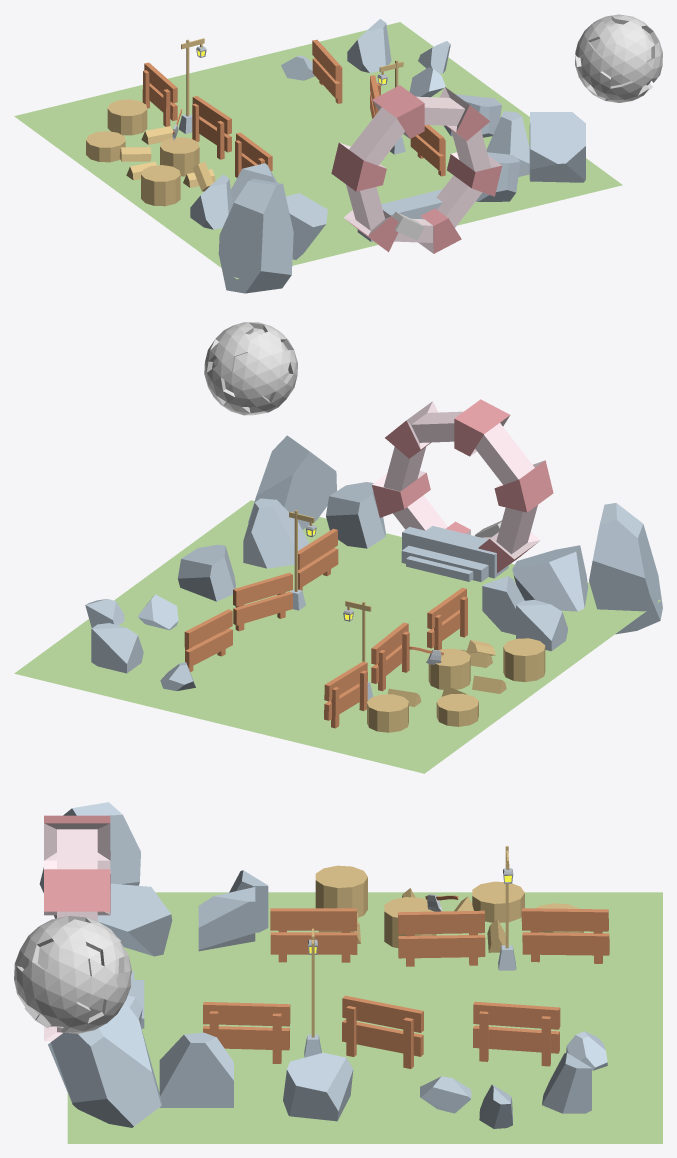
Rendered from country.glb.
3 views of the same model, one above another, from view 1: azimuth 30°, elevation 25°; view 2: azimuth 150°, elevation 25°; view 3: azimuth 270°, elevation 25° (orthographic). The views are drawn at different scales.
Parts seen in each view (by area): view 1: 平面, 柱体, 立方体.020, 柱体.001, 棱角球, 立方体.014, 立方体.019, 栏杆, 立方体.010, 立方体.011, 立方体.018, 树桩.003 (+17 smaller); view 2: 平面, 柱体, 棱角球, 立方体.020, 柱体.001, 立方体.014, 立方体.019, 立方体.010, 立方体.016, 立方体.013, 栏杆.004, 立方体.022 (+17 smaller); view 3: 平面, 棱角球, 立方体.014, 立方体.010, 栏杆.006, 栏杆.003, 栏杆, 栏杆.004, 栏杆.002, 立方体.013, 栏杆.005, 柱体 (+12 smaller).
Boxes of the visible parts, left/top/right/bottom form: 平面: left=14, top=22, right=622, bottom=279; 柱体: left=339, top=87, right=501, bottom=253; 立方体.020: left=218, top=178, right=293, bottom=293; 柱体.001: left=331, top=85, right=501, bottom=253; 棱角球: left=575, top=14, right=662, bottom=102; 立方体.014: left=529, top=112, right=585, bottom=182; 立方体.019: left=286, top=193, right=327, bottom=259; 栏杆: left=192, top=96, right=231, bottom=159; 立方体.010: left=486, top=111, right=529, bottom=176; 立方体.011: left=347, top=19, right=391, bottom=72; 立方体.018: left=190, top=174, right=232, bottom=229; 树桩.003: left=141, top=165, right=180, bottom=206; 平面: left=14, top=500, right=660, bottom=773; 柱体: left=372, top=401, right=544, bottom=559; 棱角球: left=204, top=322, right=297, bottom=415; 立方体.020: left=589, top=503, right=662, bottom=634; 柱体.001: left=372, top=399, right=553, bottom=573; 立方体.014: left=248, top=435, right=336, bottom=529; 立方体.019: left=512, top=545, right=588, bottom=611; 立方体.010: left=243, top=498, right=309, bottom=568; 立方体.016: left=326, top=482, right=385, bottom=548; 立方体.013: left=177, top=544, right=235, bottom=601; 栏杆.004: left=233, top=572, right=292, bottom=631; 立方体.022: left=402, top=526, right=508, bottom=578; 平面: left=67, top=892, right=662, bottom=1143; 棱角球: left=14, top=916, right=131, bottom=1033; 立方体.014: left=48, top=1002, right=162, bottom=1127; 立方体.010: left=159, top=1032, right=233, bottom=1107; 栏杆.006: left=473, top=1001, right=560, bottom=1066; 栏杆.003: left=521, top=908, right=609, bottom=963; 栏杆: left=398, top=910, right=485, bottom=966; 栏杆.004: left=342, top=995, right=423, bottom=1068; 栏杆.002: left=270, top=908, right=357, bottom=962; 立方体.013: left=283, top=1052, right=353, bottom=1121; 栏杆.005: left=203, top=1002, right=290, bottom=1063; 柱体: left=44, top=823, right=110, bottom=1041.
Bounding box in the file's own units: 4.42 × 1.9 × 4.36.
